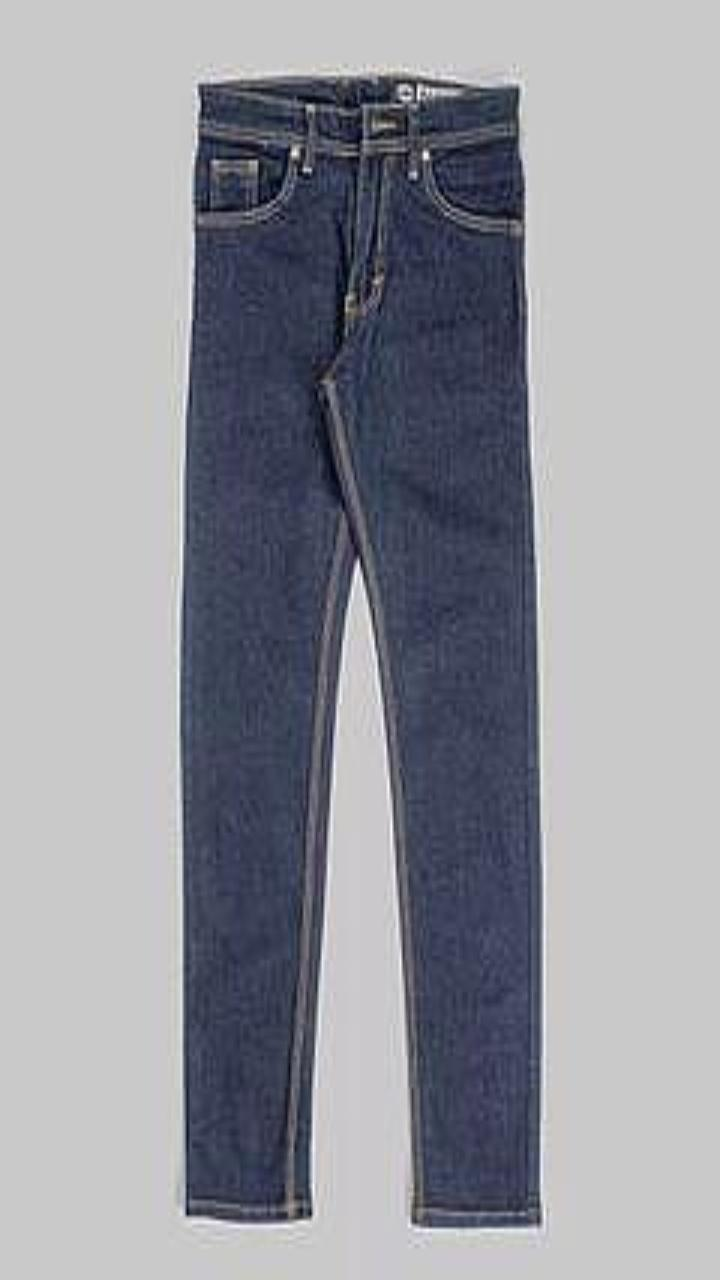Jeans: (181, 75, 540, 1226)
